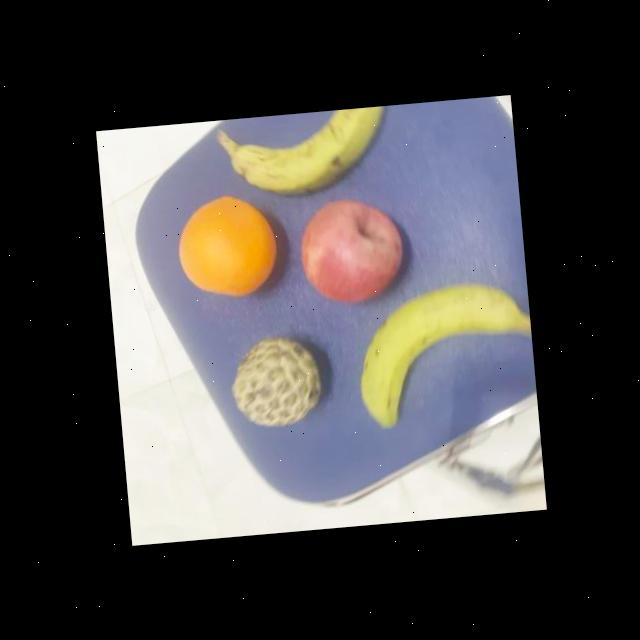Sakya fruit: (224, 332, 325, 432)
apple: (293, 191, 409, 307)
banana: (344, 280, 530, 432), (225, 106, 392, 201)
orange: (170, 191, 280, 305)
